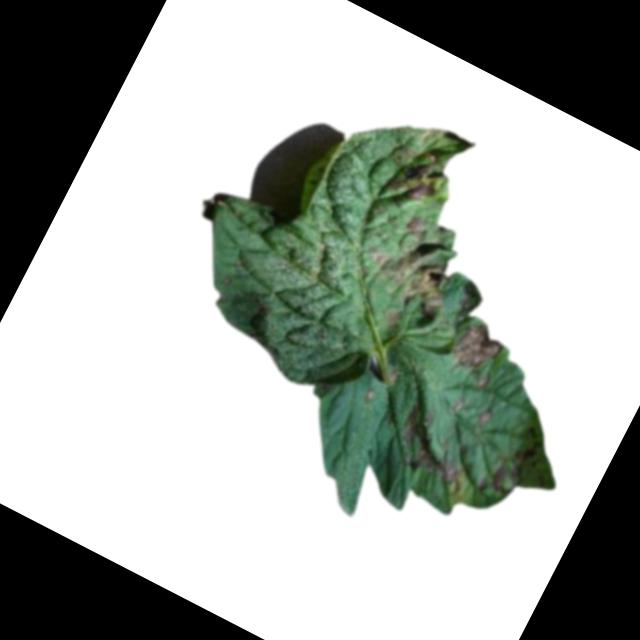Early_blight: (355, 216, 468, 321), (382, 397, 489, 498), (388, 132, 455, 208), (444, 312, 510, 379), (475, 456, 513, 499), (472, 402, 498, 431), (404, 212, 426, 236)
